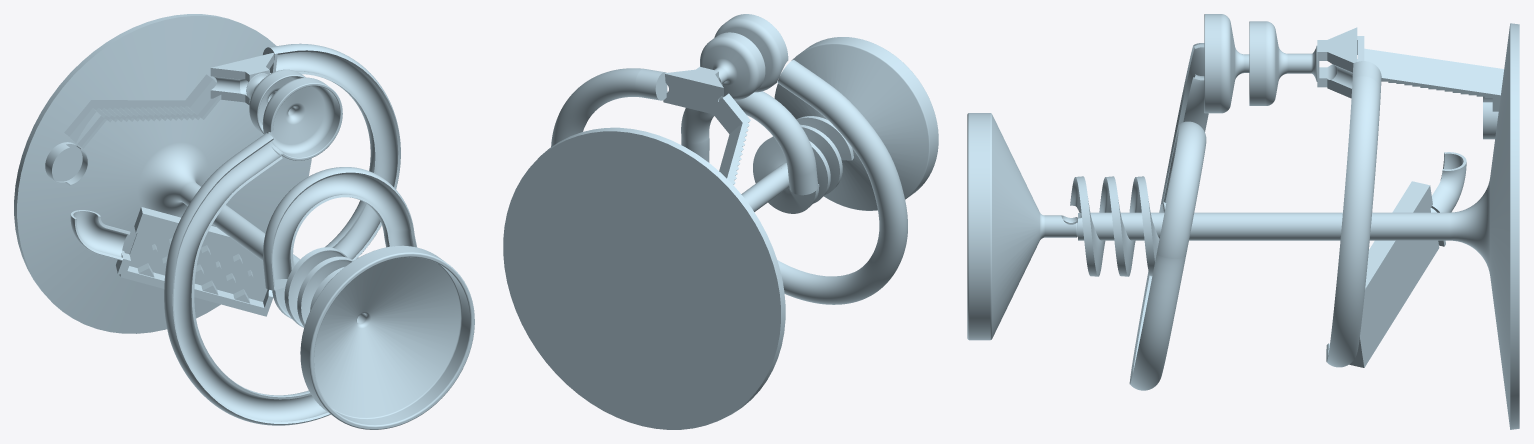
The model's file is Assembly 1 Copy 1.glb.
3 renders of one model, left to right at view 1: azimuth 30°, elevation 25°; view 2: azimuth 150°, elevation 25°; view 3: azimuth 270°, elevation 25°, orthographic. The views are drawn at different scales.
Parts seen in each view (by area): view 1: Part 1 (×11), Surface 1, Part 2; view 2: Surface 1, Part 1 (×8), Part 2; view 3: Part 1 (×11), Surface 1, Part 2.
Part boxes in pixels (box(x1,y1,x2,y2)): Part 1 (×11): box(45, 43, 474, 429); Surface 1: box(14, 14, 311, 333); Part 2: box(64, 74, 214, 138); Surface 1: box(503, 127, 789, 429); Part 1 (×8): box(551, 14, 938, 304); Part 2: box(721, 93, 750, 184); Part 1 (×11): box(967, 14, 1503, 390); Surface 1: box(1189, 23, 1519, 429); Part 2: box(1357, 36, 1504, 72).
Bounding box in the file's own units: 0.2148 × 0.2197 × 0.2747.
